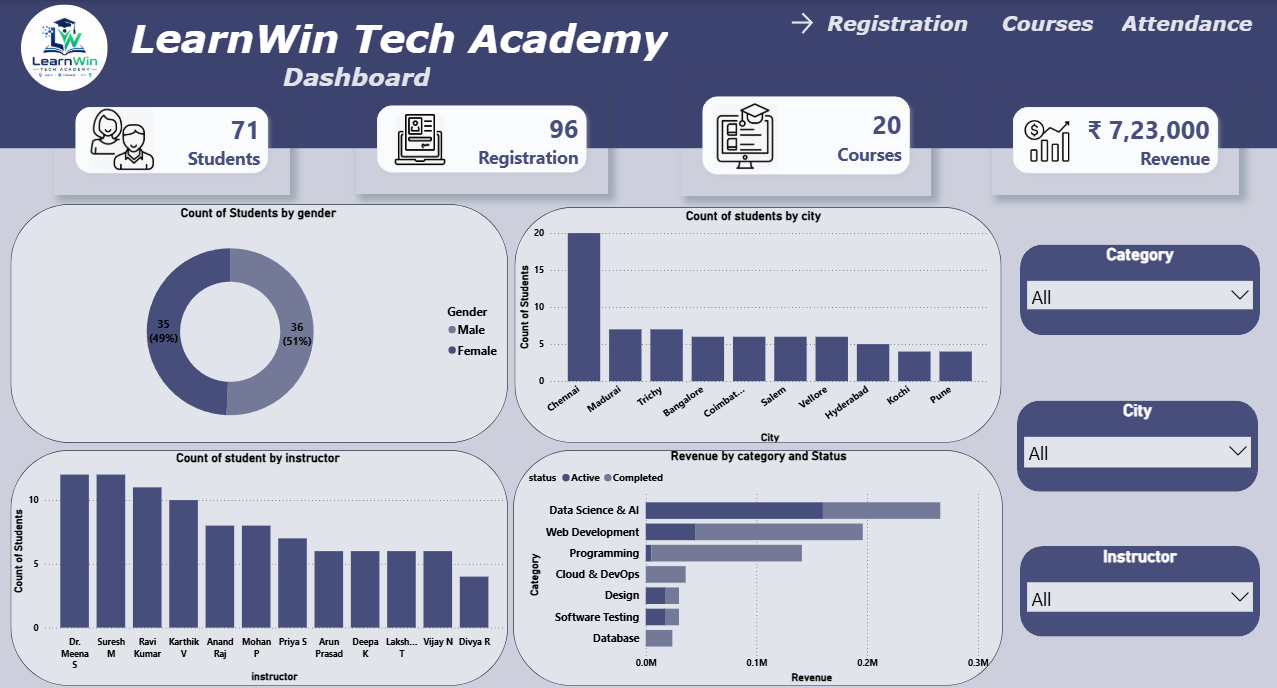

The dashboard page shown, as its layout file describes it:
{"tool":"powerbi","page":{"name":"Dashboard","canvas":[1600,900],"ordinal":0},"visuals":[{"type":"shape","box":[0,0,313.5,900.7],"z":0},{"type":"shape","box":[313.5,0,1286.1,900.7],"z":1000},{"type":"shape","box":[325.6,51.1,306.7,163.3],"z":2000},{"type":"shape","box":[960,50,306.7,163.3],"z":3000},{"type":"shape","box":[1275.6,49.4,306.7,163.9],"z":4000},{"type":"shape","box":[71.9,14,203.7,97.9],"z":5000},{"type":"shape","box":[79.9,81.9,215.7,51.9],"z":6000},{"type":"actionButton","box":[65.9,193.7,221.7,77.9],"z":7000},{"type":"actionButton","box":[73.9,463.3,221.7,77.9],"z":8000},{"type":"actionButton","box":[65.9,373.5,221.7,77.9],"z":9000},{"type":"actionButton","box":[71.9,283.6,221.7,77.9],"z":10000},{"type":"columnChart","title":"Revenue by category","fields":{"Category":["learnwin_tech courses.category"],"Y":["learnwin_tech courses.Total_fees_collected"]},"box":[957.8,224.4,626.7,325.6],"z":11000},{"type":"columnChart","title":"Count of student by instructor","fields":{"Category":["learnwin_tech courses.instructor"],"Y":["CountNonNull(learnwin_tech registrations.student_id)"]},"box":[326,564,622,322],"z":12000},{"type":"donutChart","title":"Count of Students by gender","fields":{"Category":["learnwin_tech students.gender"],"Y":["CountNonNull(learnwin_tech students.id)"]},"box":[325.6,224.4,622.2,325.6],"z":13000},{"type":"barChart","title":"Count of students by city","fields":{"Category":["learnwin_tech students.city"],"Y":["CountNonNull(learnwin_tech students.id)"]},"box":[962,564,622,322],"z":14000},{"type":"cardVisual","fields":{"Data":["learnwin_tech students.Students"]},"box":[325.6,51.7,306.7,163.3],"z":15000},{"type":"cardVisual","fields":{"Data":["learnwin_tech attendance.Total Courses"]},"box":[960,50,306.7,163.3],"z":16000},{"type":"shape","box":[641.1,50,306.7,163.3],"z":17000},{"type":"cardVisual","fields":{"Data":["learnwin_tech attendance.Total Registration"]},"box":[641.1,49.4,306.7,163.3],"z":18000},{"type":"actionButton","box":[381.4,0,307.6,51.9],"z":19000},{"type":"image","box":[6,14,97.9,123.8],"z":20000},{"type":"image","box":[22,463.3,65.9,65.9],"z":21000},{"type":"image","box":[32,199.7,65.9,65.9],"z":22000},{"type":"image","box":[33,373,66,66],"z":23000},{"type":"image","box":[39.9,297.6,51.9,43.9],"z":24000},{"type":"image","box":[722.8,93.9,51.7,43.9],"z":25000},{"type":"image","box":[381.1,97.8,63.3,48.9],"z":26000},{"type":"cardVisual","fields":{"Data":["learnwin_tech courses.Overall fees"]},"box":[1275.6,48.9,306.7,165.6],"z":27000},{"type":"image","box":[341.1,2.2,40,50],"z":28000},{"type":"cardVisual","fields":{"Data":["learnwin_tech students.Students"]},"box":[530,336.4,135.7,121.4],"z":29000},{"type":"image","box":[1030,90,56.7,43.3],"z":30000}]}

Visuals, with their boxes on the page's 1600x900 design canvas (x1, y1, x2, y2). These are canvas units, not pixel positions in the 1277x688 screenshot, which may show the page scaled, cropped or inside an application window:
shape: {"x1": 0, "y1": 0, "x2": 314, "y2": 901}
shape: {"x1": 314, "y1": 0, "x2": 1600, "y2": 901}
shape: {"x1": 326, "y1": 51, "x2": 632, "y2": 214}
shape: {"x1": 960, "y1": 50, "x2": 1267, "y2": 213}
shape: {"x1": 1276, "y1": 49, "x2": 1582, "y2": 213}
shape: {"x1": 72, "y1": 14, "x2": 276, "y2": 112}
shape: {"x1": 80, "y1": 82, "x2": 296, "y2": 134}
actionButton: {"x1": 66, "y1": 194, "x2": 288, "y2": 272}
actionButton: {"x1": 74, "y1": 463, "x2": 296, "y2": 541}
actionButton: {"x1": 66, "y1": 374, "x2": 288, "y2": 451}
actionButton: {"x1": 72, "y1": 284, "x2": 294, "y2": 362}
"Revenue by category" columnChart: {"x1": 958, "y1": 224, "x2": 1584, "y2": 550}
"Count of student by instructor" columnChart: {"x1": 326, "y1": 564, "x2": 948, "y2": 886}
"Count of Students by gender" donutChart: {"x1": 326, "y1": 224, "x2": 948, "y2": 550}
"Count of students by city" barChart: {"x1": 962, "y1": 564, "x2": 1584, "y2": 886}
cardVisual - learnwin_tech students.Students: {"x1": 326, "y1": 52, "x2": 632, "y2": 215}
cardVisual - learnwin_tech attendance.Total Courses: {"x1": 960, "y1": 50, "x2": 1267, "y2": 213}
shape: {"x1": 641, "y1": 50, "x2": 948, "y2": 213}
cardVisual - learnwin_tech attendance.Total Registration: {"x1": 641, "y1": 49, "x2": 948, "y2": 213}
actionButton: {"x1": 381, "y1": 0, "x2": 689, "y2": 52}
image: {"x1": 6, "y1": 14, "x2": 104, "y2": 138}
image: {"x1": 22, "y1": 463, "x2": 88, "y2": 529}
image: {"x1": 32, "y1": 200, "x2": 98, "y2": 266}
image: {"x1": 33, "y1": 373, "x2": 99, "y2": 439}
image: {"x1": 40, "y1": 298, "x2": 92, "y2": 342}
image: {"x1": 723, "y1": 94, "x2": 774, "y2": 138}
image: {"x1": 381, "y1": 98, "x2": 444, "y2": 147}
cardVisual - learnwin_tech courses.Overall fees: {"x1": 1276, "y1": 49, "x2": 1582, "y2": 214}
image: {"x1": 341, "y1": 2, "x2": 381, "y2": 52}
cardVisual - learnwin_tech students.Students: {"x1": 530, "y1": 336, "x2": 666, "y2": 458}
image: {"x1": 1030, "y1": 90, "x2": 1087, "y2": 133}
